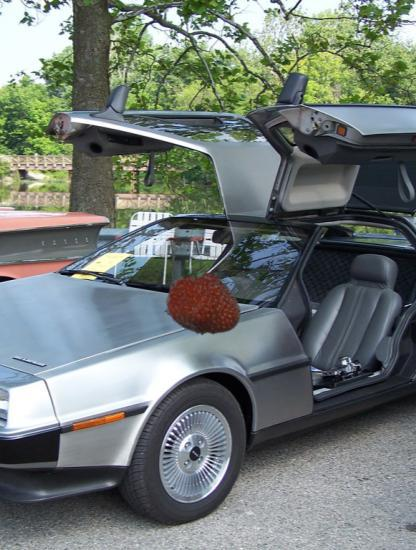Strawberry: (163, 262, 245, 344)
